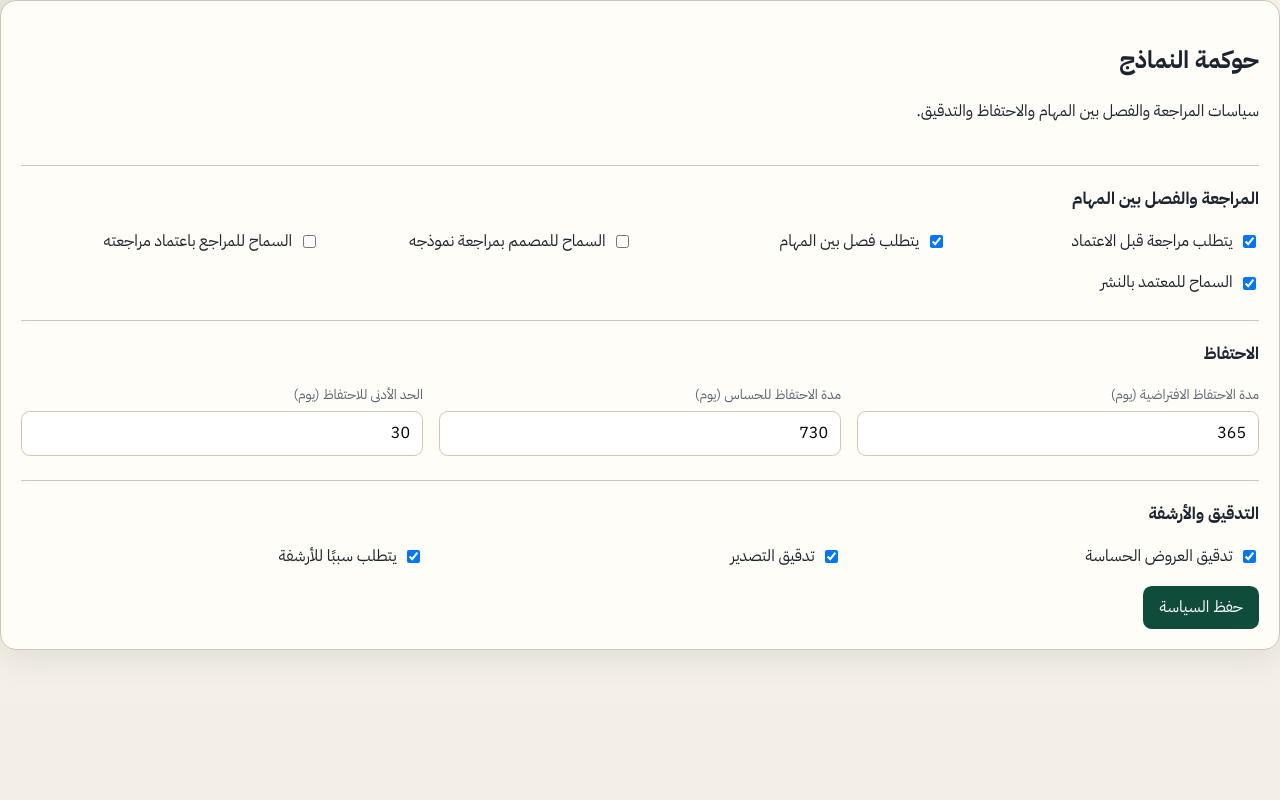
Test: FormsGovernanceSettingsPage › shows conflict on 409
The width and height of the screenshot is (1280, 800).
Click the button "حفظ السياسة".
click(1201, 607)  # box [1143,586,1259,629]
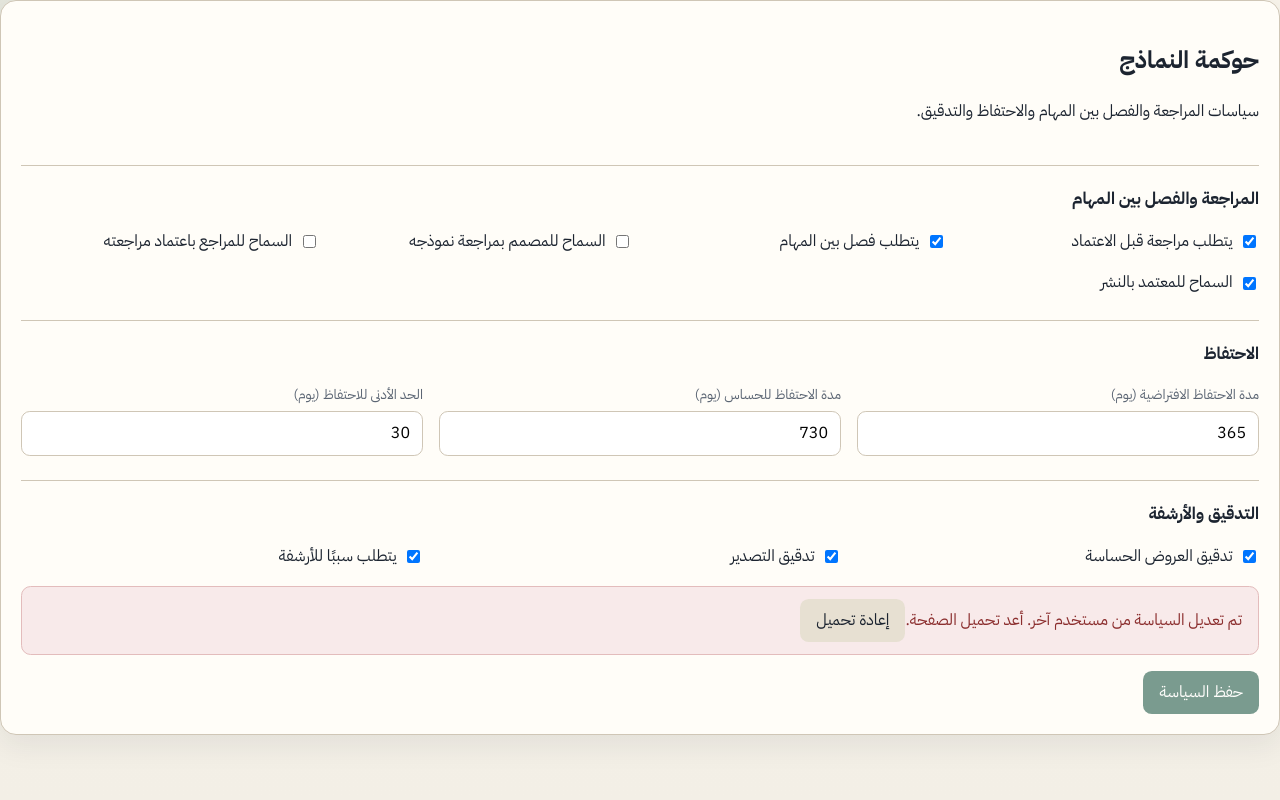
Check: the message shows "تم تعديل السياسة من مستخدم آخر", box [905,608,1242,632]
